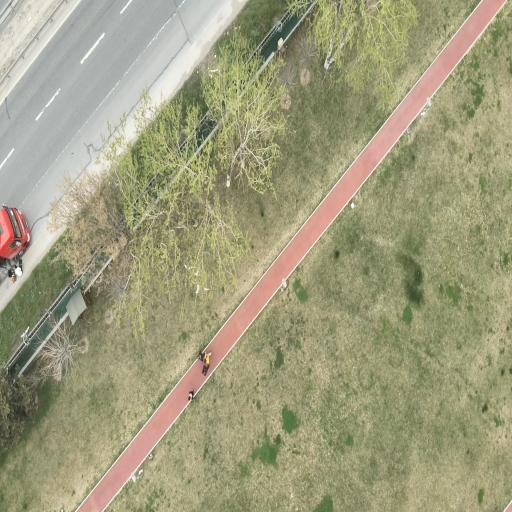person: (203, 353, 211, 375), (14, 266, 22, 277), (188, 390, 195, 402), (205, 353, 211, 365), (198, 352, 205, 361)
truck: (0, 205, 30, 282)
